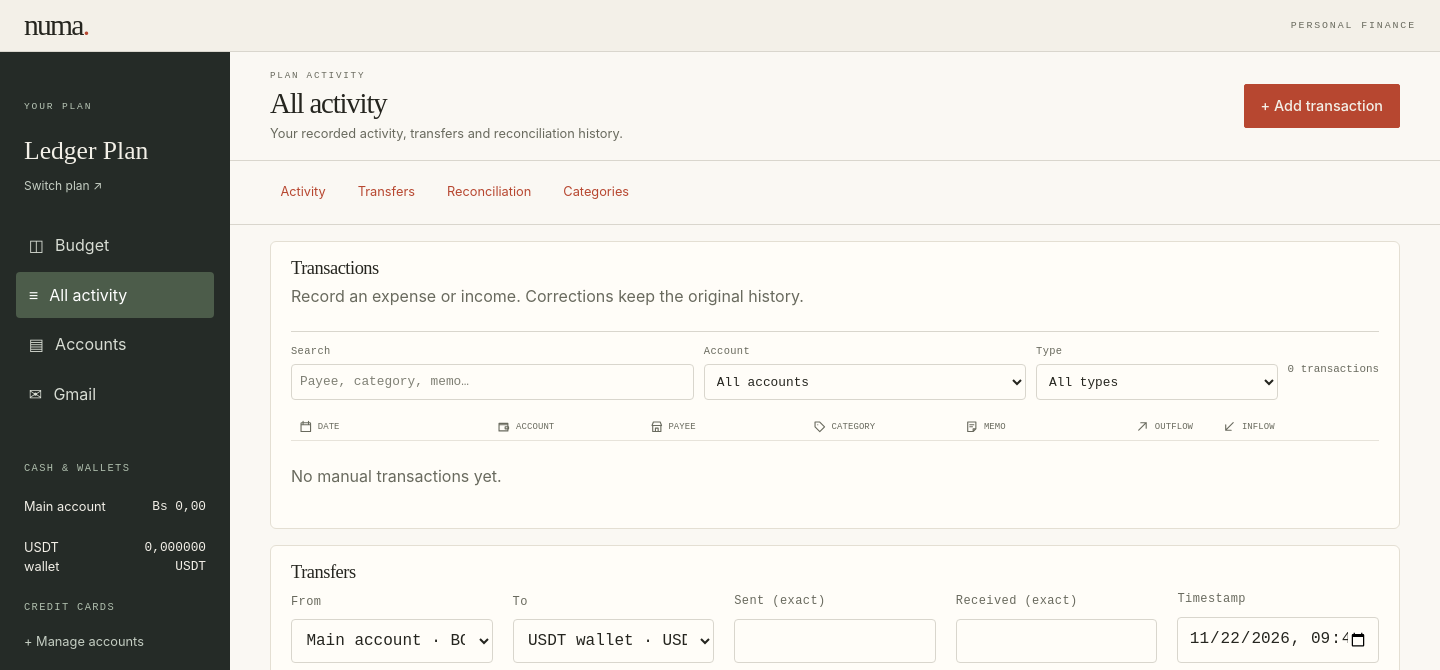
Test: minimal authoritative client flows › requires an account in All activity and reuses the transaction ID after a lost response
Click the button "+ Add transaction" at [1322, 106], box [1244,84,1400,128]
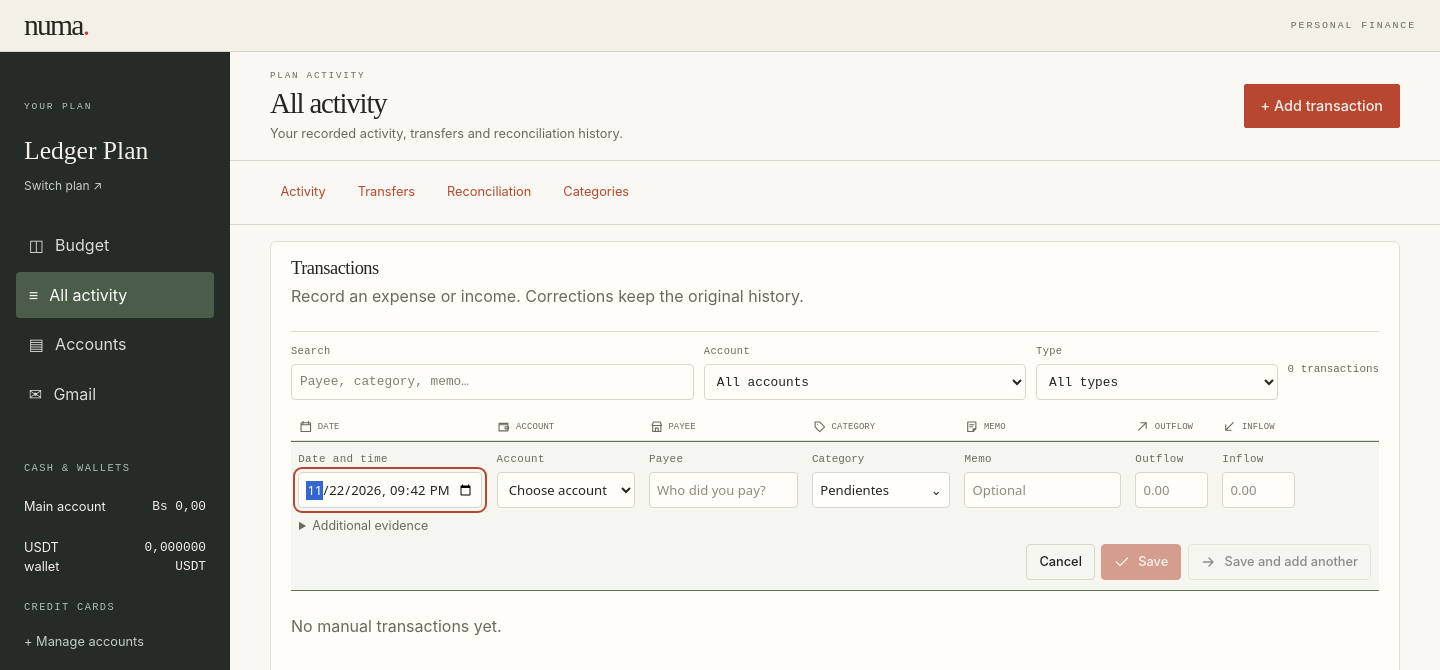
Result: the button "Save" is disabled at [1101,544,1181,580]
Select "Main account · BOB" in the dropdown named "Transaction account" at [566, 490], box [497,472,634,508]
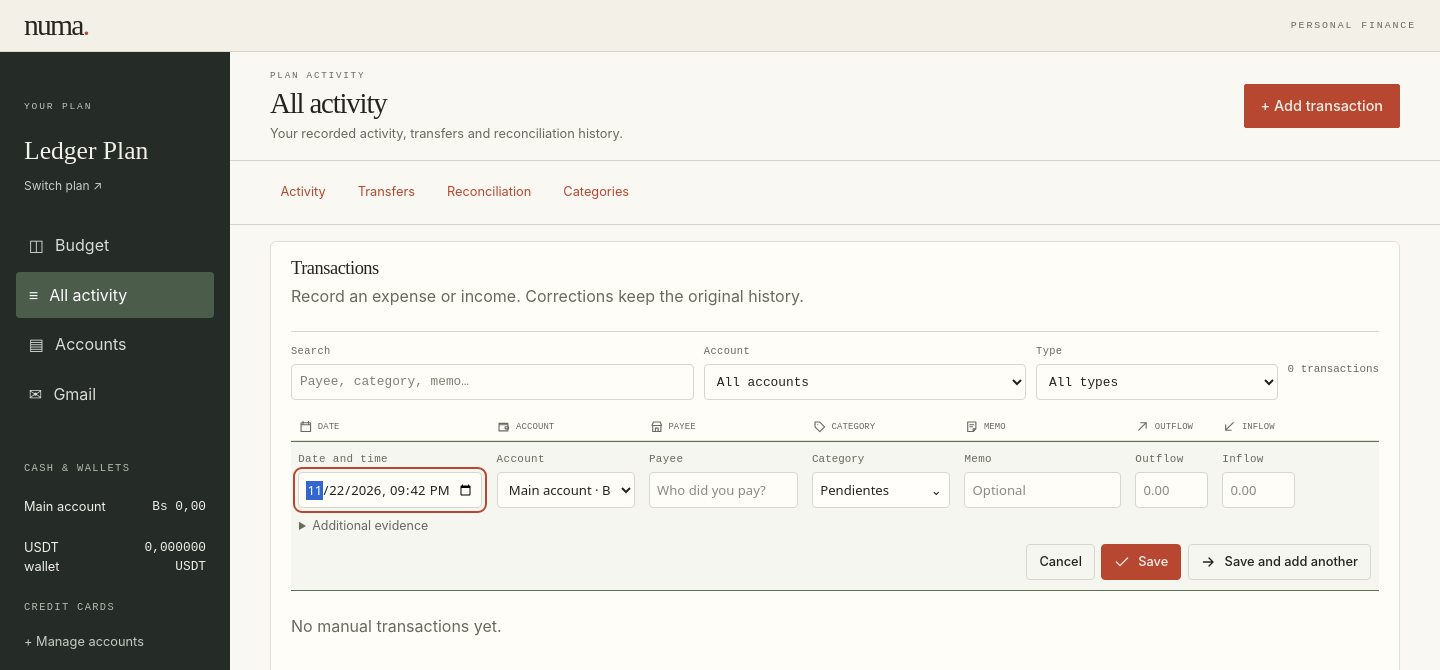
Type "15.00" into the field labelled "Outflow" at [1172, 490], box [1135,472,1208,508]
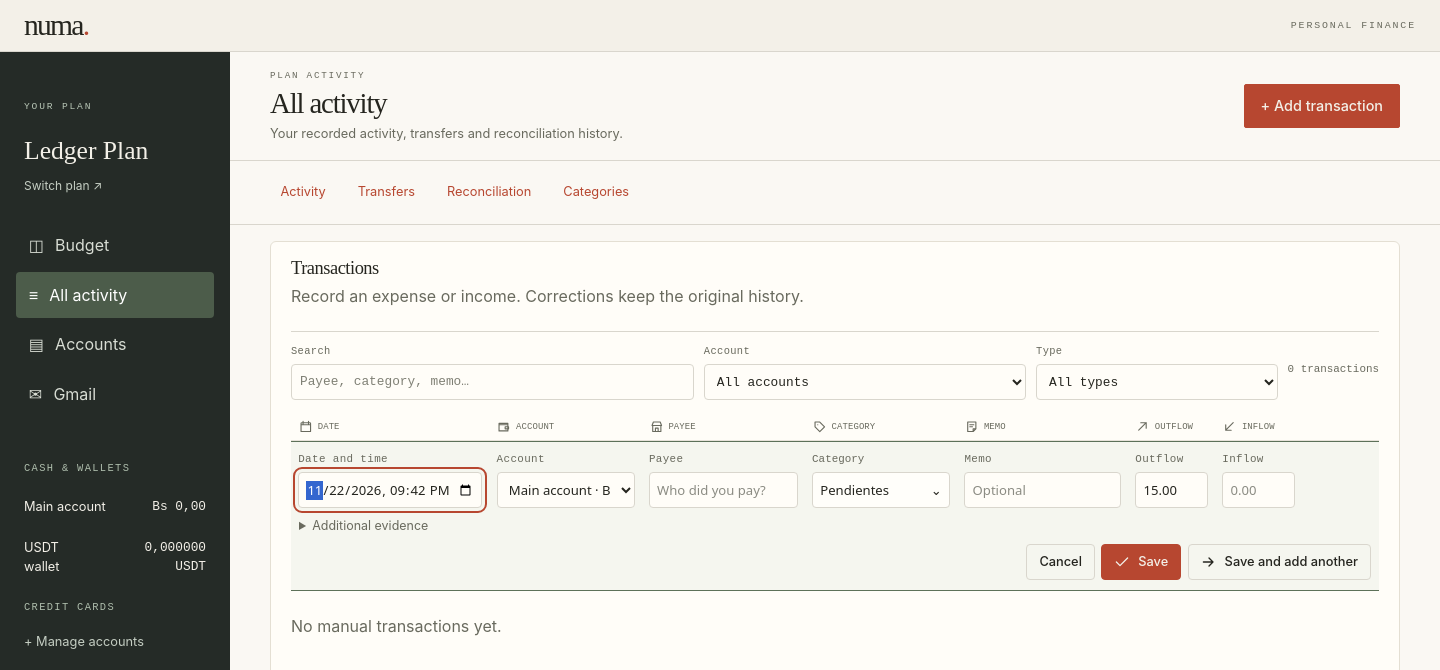
Click the button "Save" at [1141, 562], box [1101,544,1181,580]
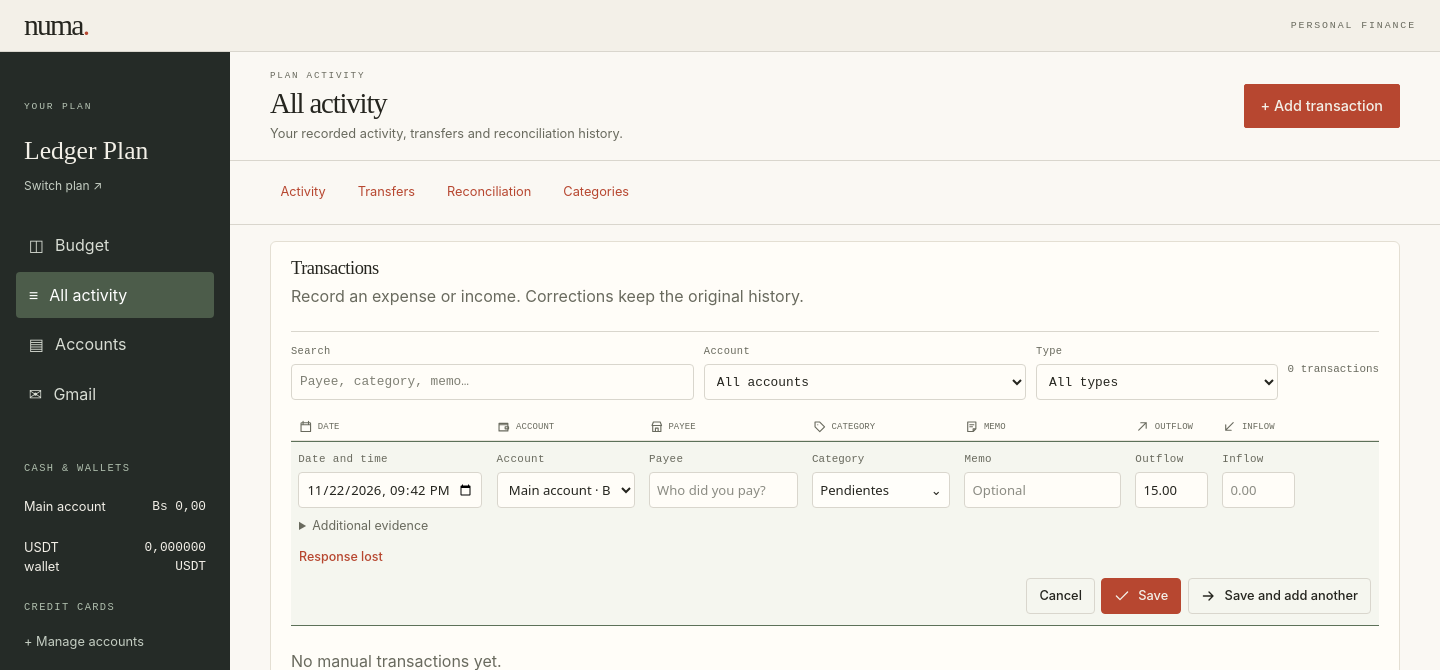
Result: the message "Response lost" is shown at [299,549,383,564]
Click the button "Save" at [1141, 596], box [1101,578,1181,614]
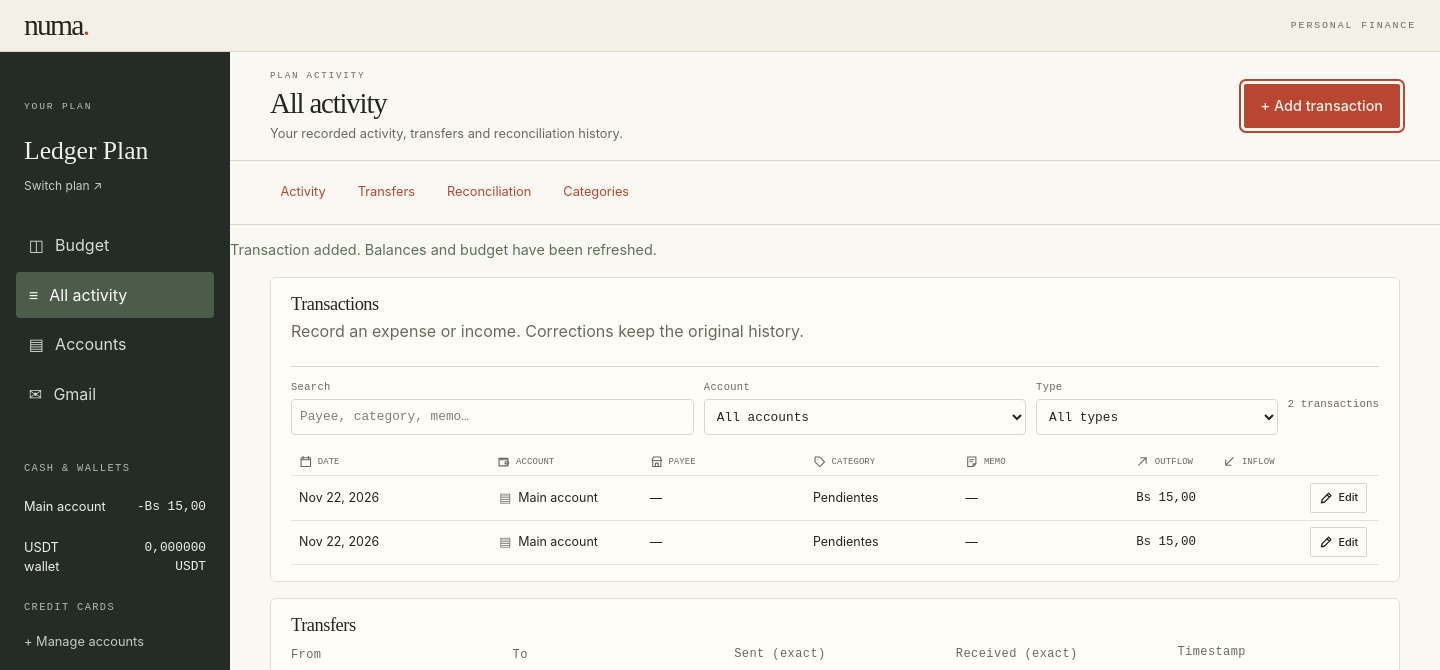
Result: the text "Transaction added. Balances and budget have been refreshed." is shown at [230,241,657,258]
